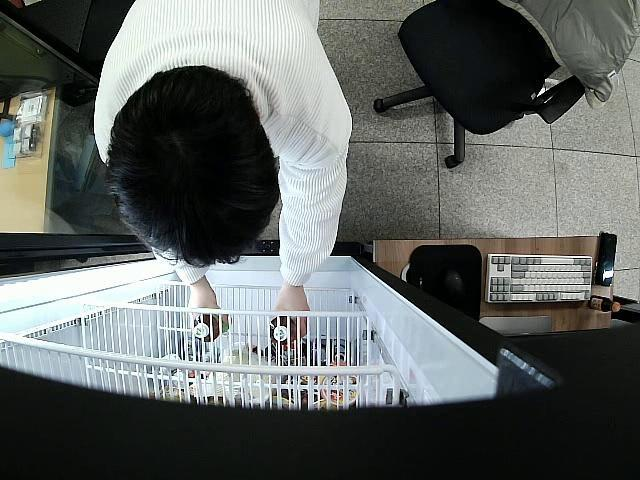19_17cha: (190, 314, 232, 342), (268, 315, 302, 348)
